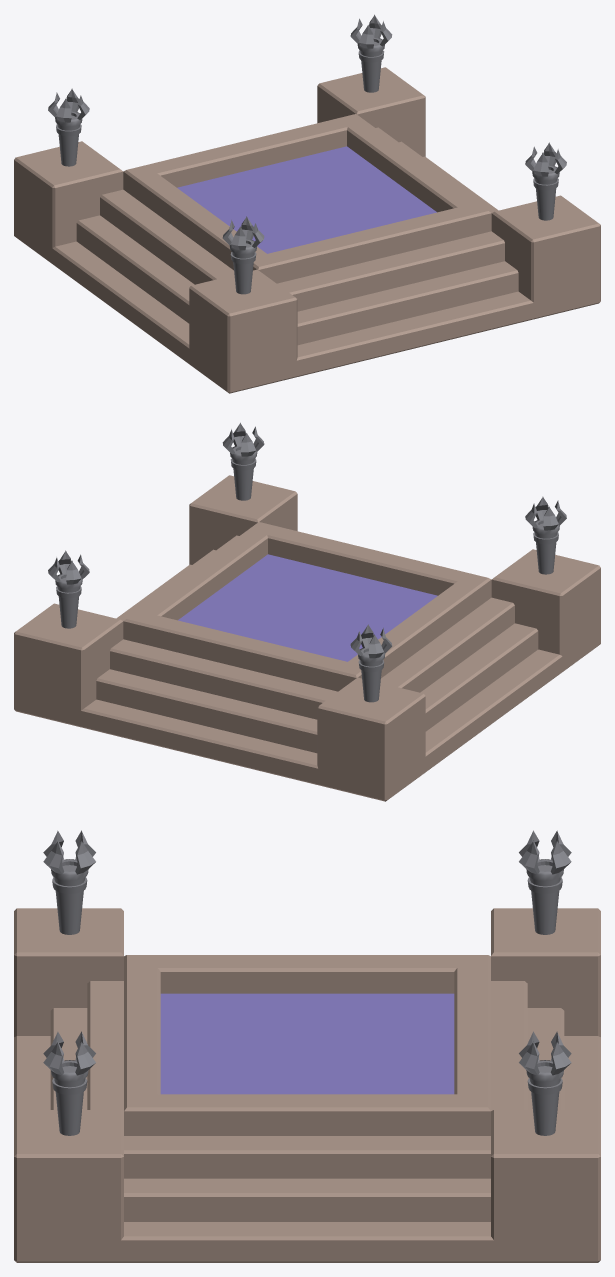
Rendered from loop.fbx.
The picture shows the model from 3 angles, top to bottom: view 1: azimuth 30°, elevation 25°; view 2: azimuth 150°, elevation 25°; view 3: azimuth 270°, elevation 25°; orthographic projection. The views are drawn at different scales.
Visible parts, largest first — view 1: saiden, seikadai1, seikadai4, seikadai2, seikadai3; view 2: saiden, seikadai2, seikadai3, seikadai1, seikadai4; view 3: saiden, seikadai3, seikadai4, seikadai1, seikadai2.
Part boxes in pixels (x1,y1,x2,y2): saiden: (14,67,600,393); seikadai1: (222,216,264,294); seikadai4: (525,142,566,220); seikadai2: (48,88,89,166); seikadai3: (350,14,392,92); saiden: (14,475,600,801); seikadai2: (350,624,392,702); seikadai3: (48,550,89,628); seikadai1: (525,496,566,574); seikadai4: (222,422,264,500); saiden: (14,908,600,1262); seikadai3: (519,1031,571,1135); seikadai4: (43,1031,95,1135); seikadai1: (43,830,95,934); seikadai2: (519,830,571,934).
Bounding box in the file's own units: 4 × 1.54 × 4.
